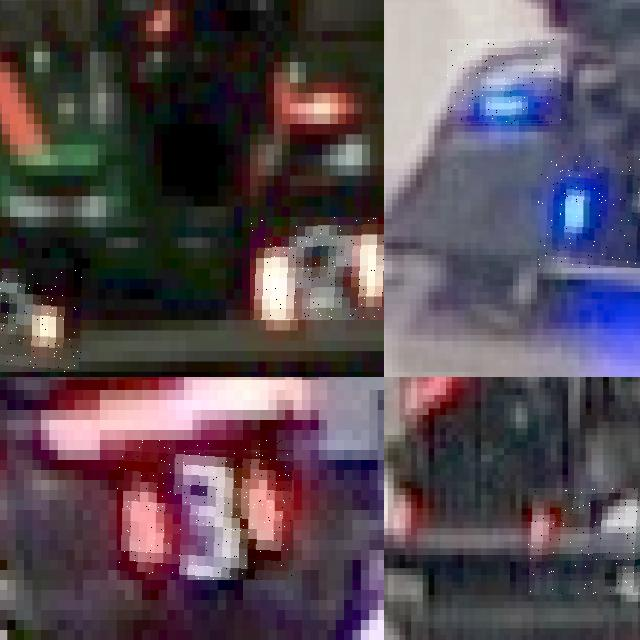B1: (537, 156, 640, 267), (447, 40, 561, 126)
R1: (527, 488, 640, 594)
R3: (117, 440, 293, 580)
Rs: (250, 217, 384, 320), (0, 268, 82, 371)
